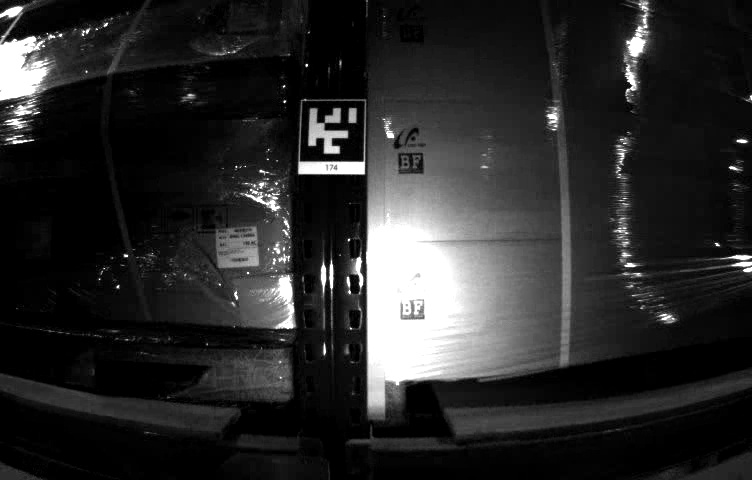True Barcode: (215, 227, 262, 269)
